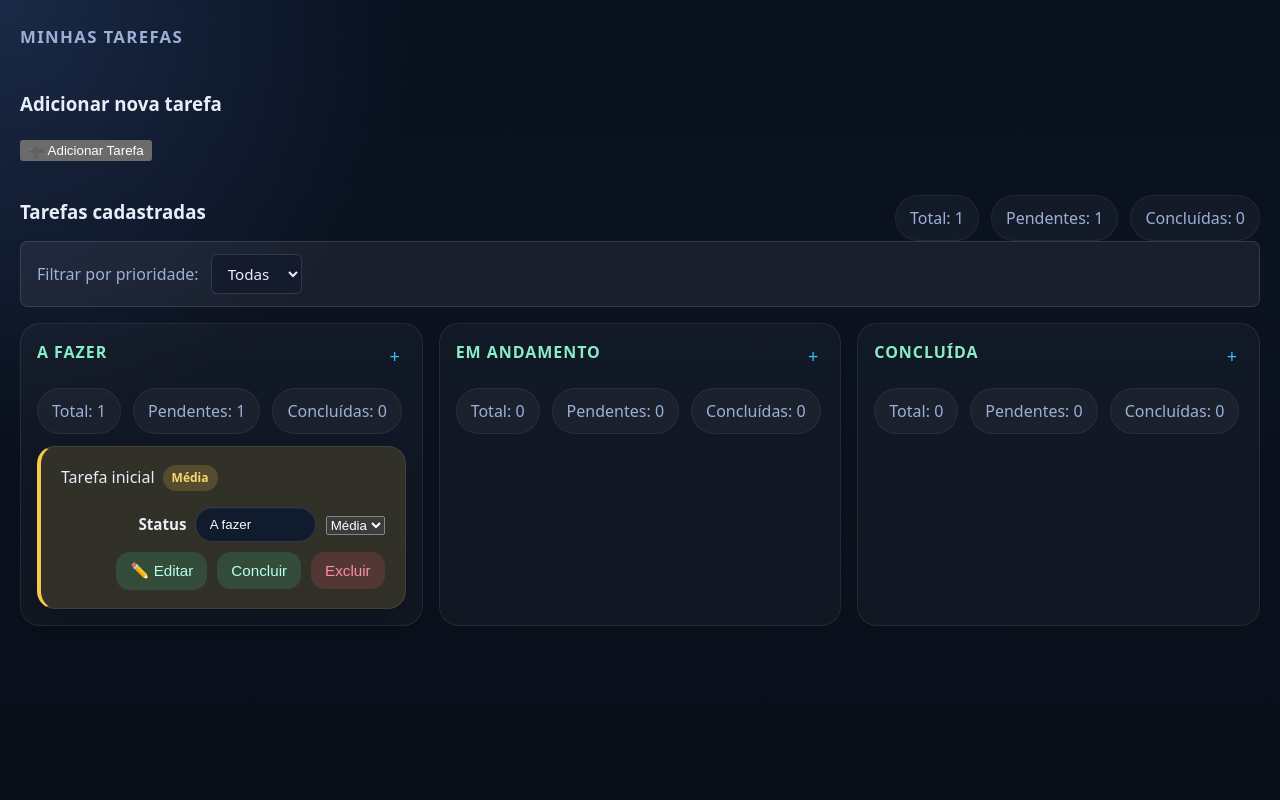
Scenario: Dashboard Kanban e API › exclui a primeira tarefa pelo endpoint real e remove o item
expect the text "Tarefa inicial" is shown: met, box [61,465,155,490]
Click the button "Excluir": (348, 571) [311,552,385,589]
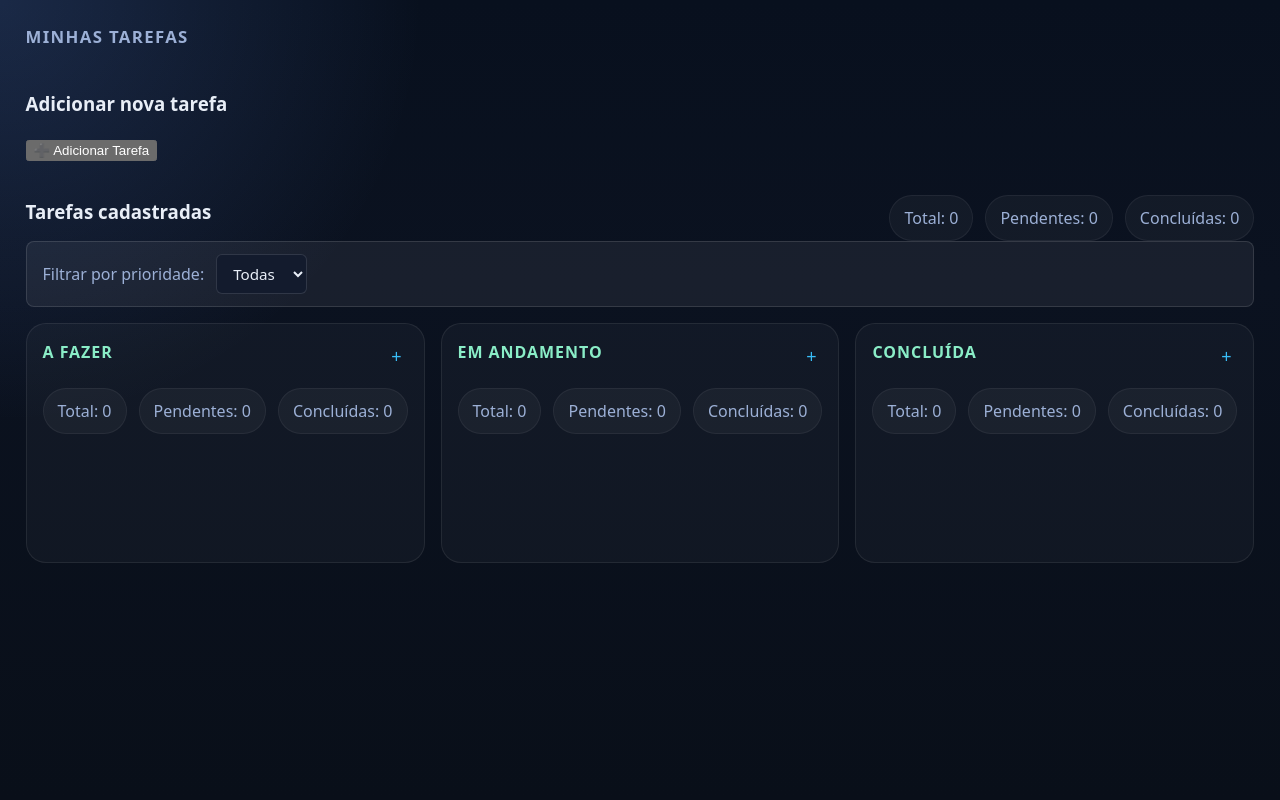
expect the text "Tarefa inicial" is gone: met
